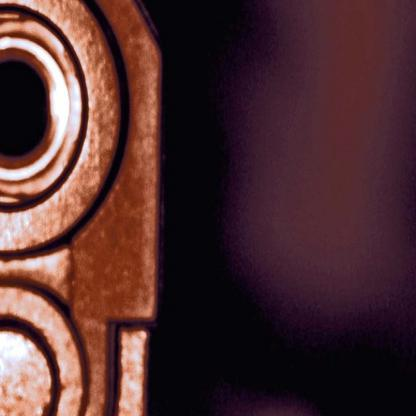gun: (0, 0, 168, 415)
